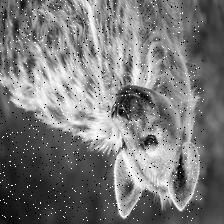hyena: (0, 0, 204, 221)
